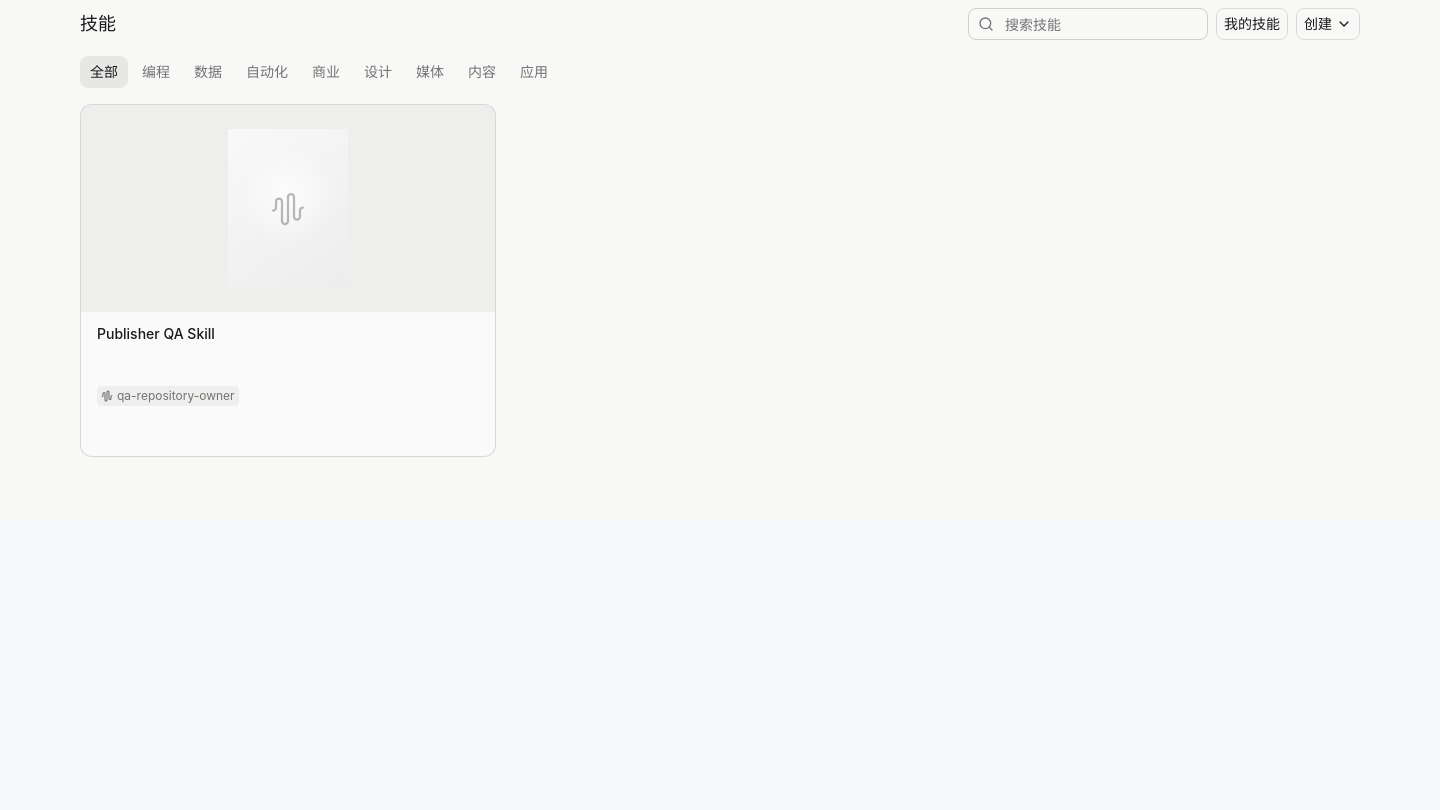
Test case: shows only the same proven publisher in catalog and detail: qa-repository-owner
Expected: the text "qa-repository-owner" is shown, 117,388 -> 235,404
Click the button "Publisher QA Skill" at (156, 334), box 97,324 -> 215,344
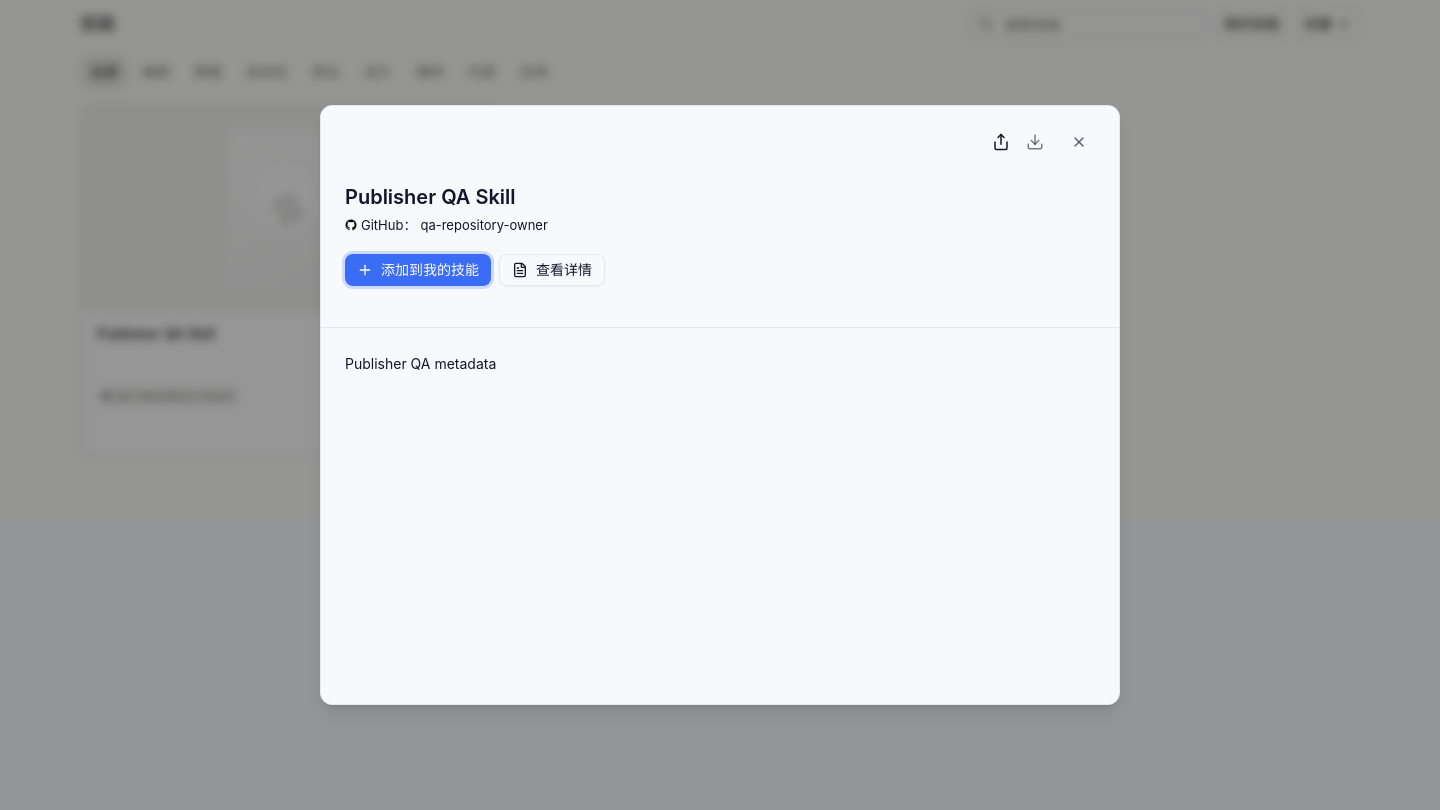
Result: the text "Publisher QA metadata" is shown at 345,355 -> 496,372
Result: the link "qa-repository-owner" is shown at 420,216 -> 548,234
